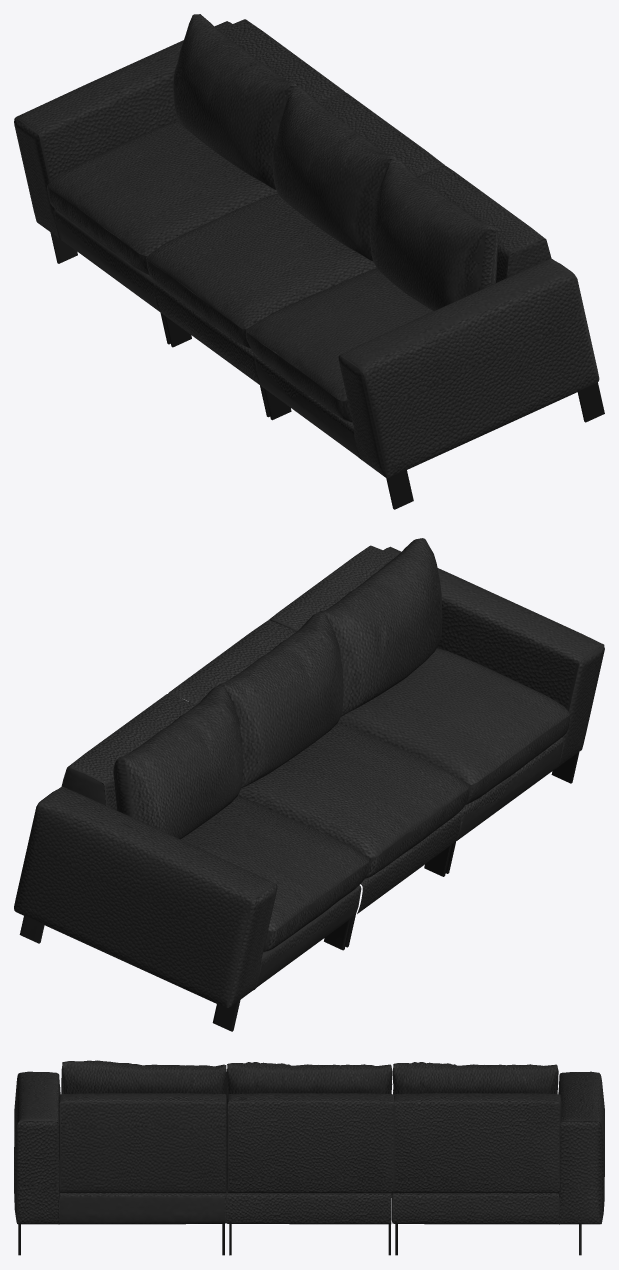
Rendered from Three_Seat_Multi_person_sofa_d3da2fd1-76fc-58f6-812a-b3f6b6c46c65.glb.
3 renders of one model, top to bottom at view 1: azimuth 30°, elevation 25°; view 2: azimuth 150°, elevation 25°; view 3: azimuth 270°, elevation 25°, orthographic. The views are drawn at different scales.
Parts seen in each view (by area): view 1: raw_model.obj; view 2: raw_model.obj; view 3: raw_model.obj.
Part boxes in pixels (bbox=[...]): raw_model.obj: bbox=[14, 14, 604, 509]; raw_model.obj: bbox=[14, 538, 604, 1031]; raw_model.obj: bbox=[14, 1060, 604, 1255].
Size of the model in its own units: 0.9091 by 0.8277 by 2.28.
1 material, 1 textured.
